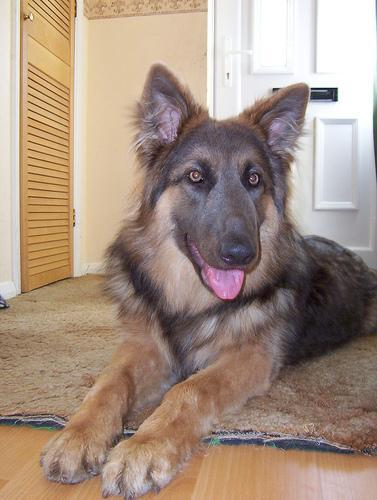German_shepherd: (38, 63, 373, 498)
